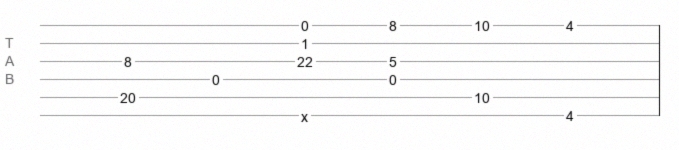0: (212, 72, 220, 82), (301, 18, 309, 28), (389, 72, 397, 82)
1: (301, 36, 309, 46)
10: (474, 18, 490, 28), (474, 90, 490, 100)
20: (120, 90, 136, 100)
22: (297, 54, 313, 64)
4: (566, 108, 574, 118), (566, 18, 574, 28)
5: (389, 54, 397, 64)
8: (124, 54, 132, 64), (389, 18, 397, 28)
x: (301, 109, 308, 117)
